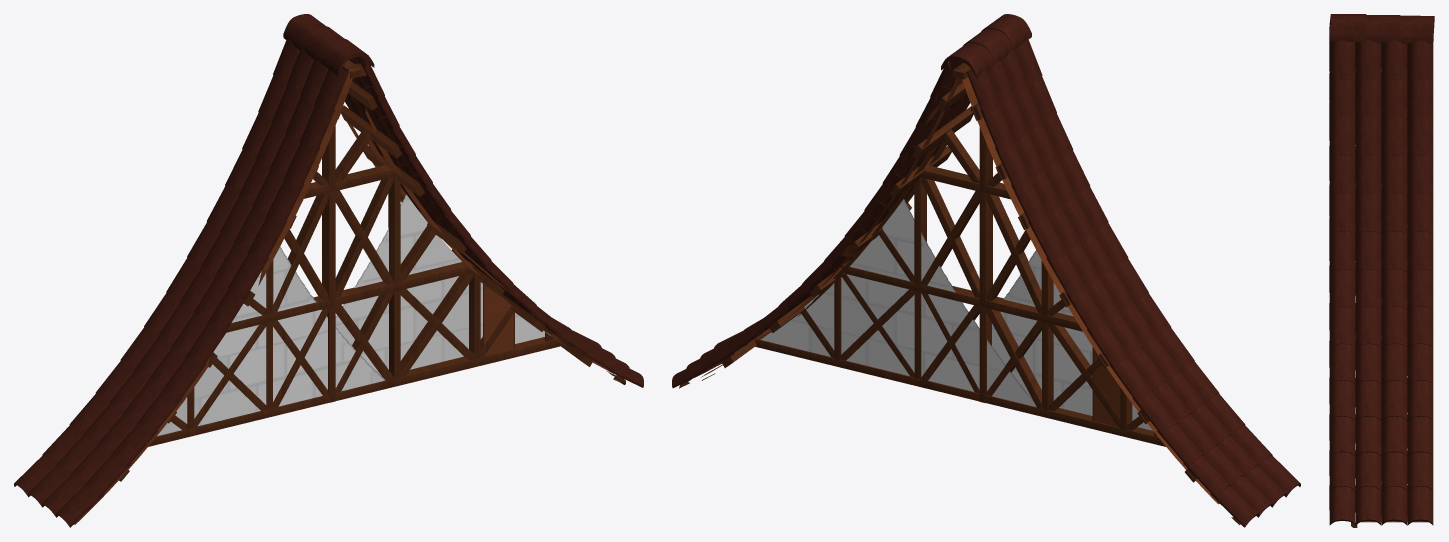
Rendered from L_Roof_Frame_Brick.fbx.
3 views of the same model, side by side, from view 1: azimuth 30°, elevation 25°; view 2: azimuth 150°, elevation 25°; view 3: azimuth 270°, elevation 25° (orthographic). The views are drawn at different scales.
Visible parts, largest first — view 1: s roof mesh for normals.156, Cube.009, L_Roof_Frame_Brick, Cube.010; view 2: s roof mesh for normals.156, Cube.009, L_Roof_Frame_Brick, Cube.010; view 3: s roof mesh for normals.156, L_Roof_Frame_Brick.
Boxes of the visible parts, x1=… form: s roof mesh for normals.156: x1=14, y1=14, x2=643, y2=527; Cube.009: x1=148, y1=126, x2=560, y2=446; L_Roof_Frame_Brick: x1=74, y1=63, x2=625, y2=524; Cube.010: x1=119, y1=60, x2=592, y2=481; s roof mesh for normals.156: x1=672, y1=14, x2=1300, y2=527; Cube.009: x1=755, y1=127, x2=1165, y2=446; L_Roof_Frame_Brick: x1=679, y1=77, x2=1240, y2=524; Cube.010: x1=721, y1=63, x2=1196, y2=482; s roof mesh for normals.156: x1=1329, y1=14, x2=1434, y2=525; L_Roof_Frame_Brick: x1=1351, y1=68, x2=1427, y2=527.
Bounding box in the file's own units: 1292 × 870 × 217.
